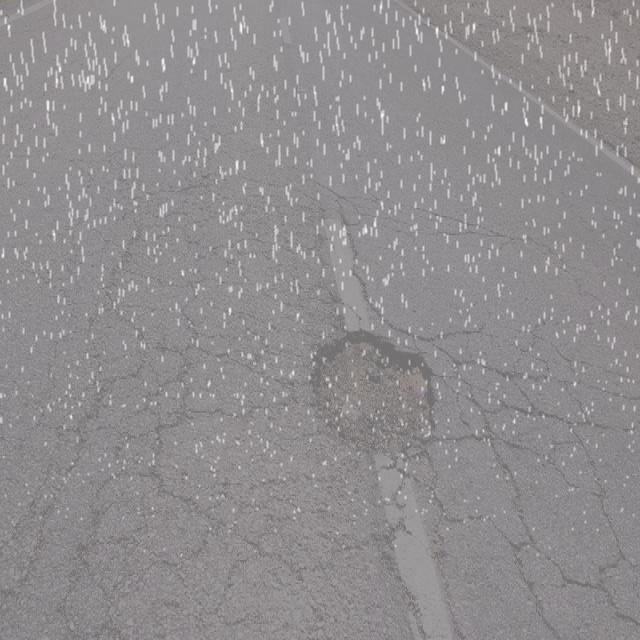Pothole: (286, 309, 460, 480)
